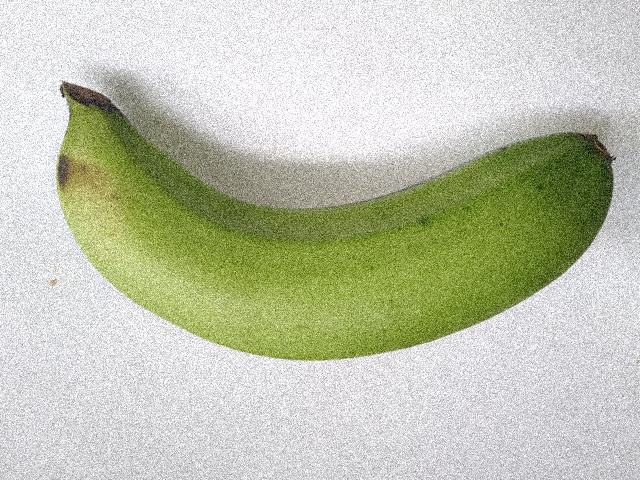freshunripe: (35, 68, 639, 377)
